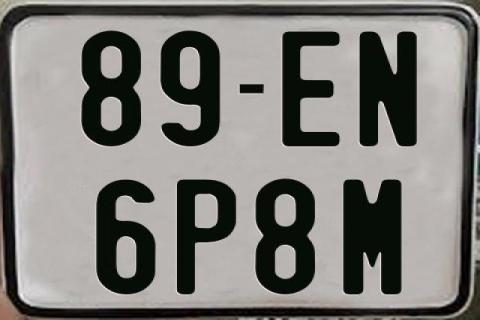0: (80, 30, 146, 148), (254, 177, 318, 295), (160, 30, 224, 146), (93, 177, 154, 292)
E: (280, 31, 341, 148)
M: (343, 178, 407, 296)
N: (356, 31, 418, 149)
P: (174, 177, 236, 293)
